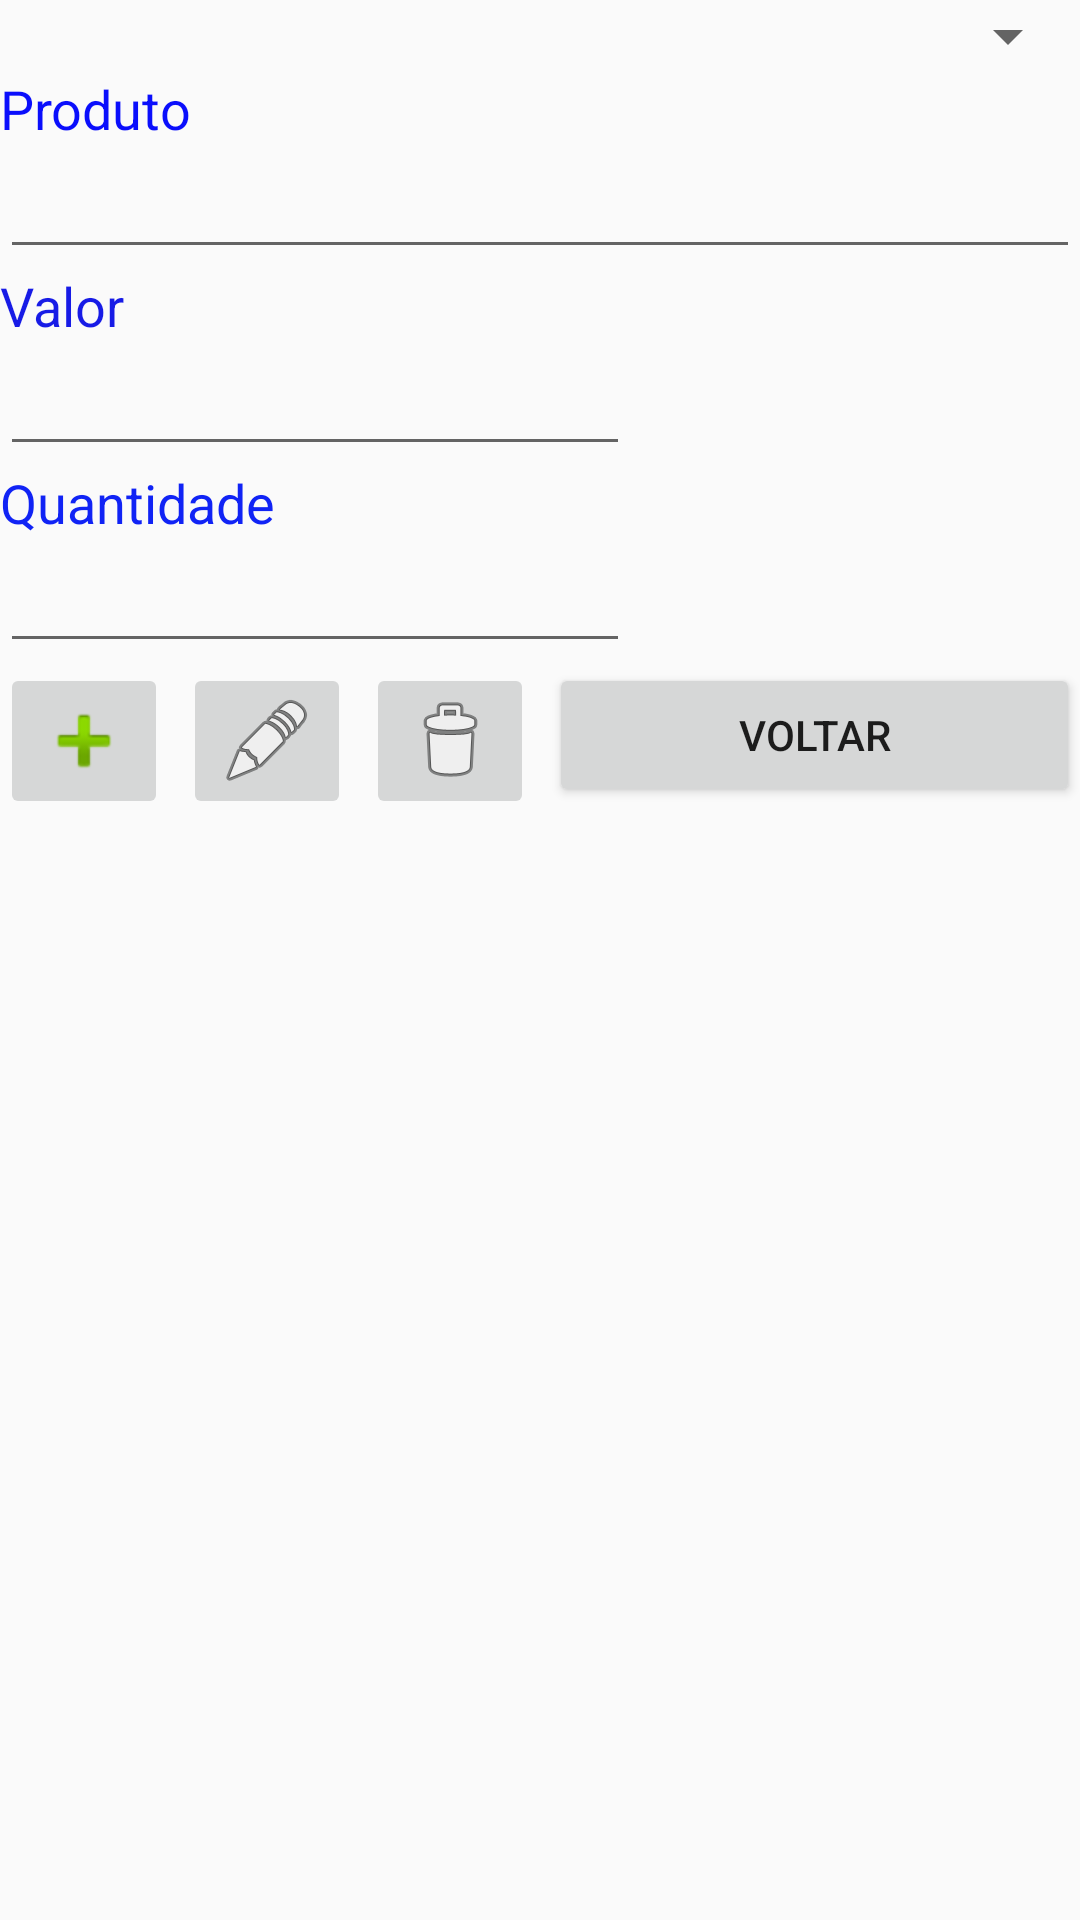

Where to tap for icons on this 1080 × 1920 app screen, as [x,y]:
add: [84,741]
delete: [450,741]
edit: [267,741]
